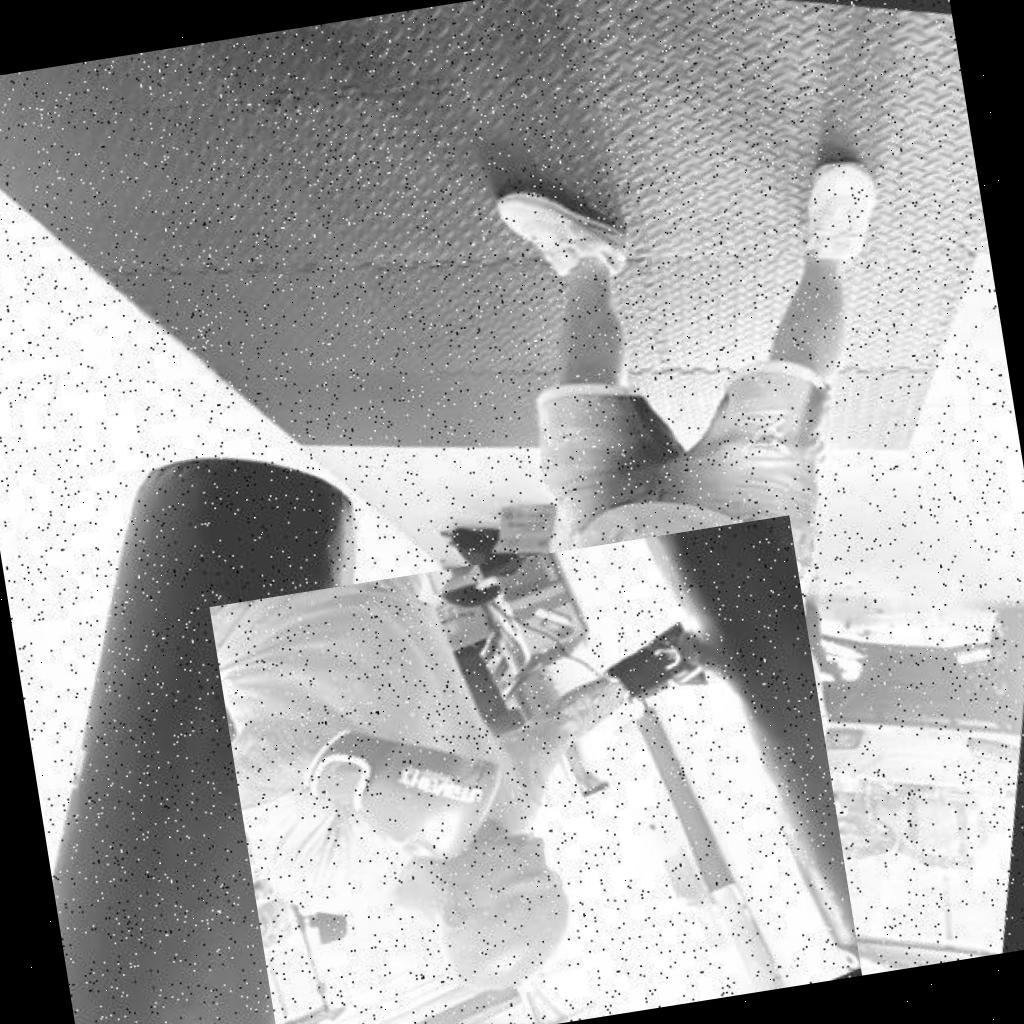hook: (209, 515, 862, 1024)
